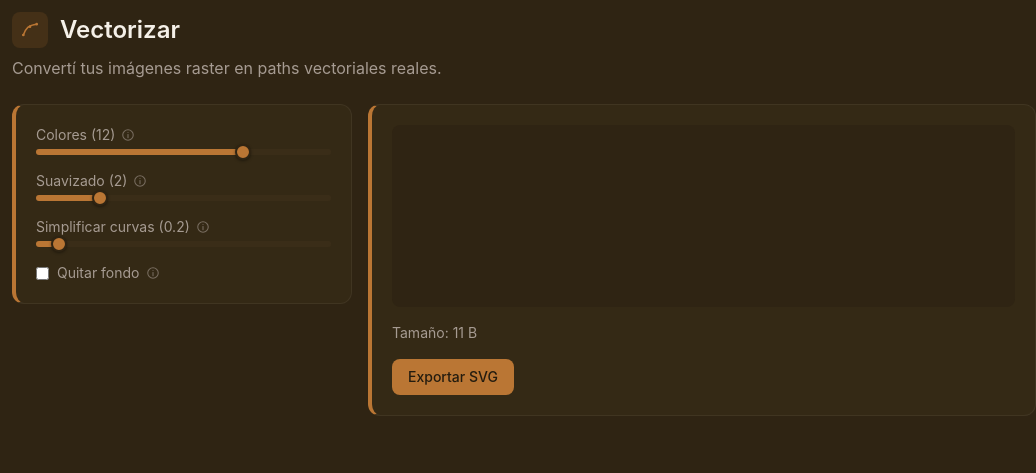
Test case: VectorizeScreen › exports the svg to the chosen path
What coordinates should you click on to do the following:
click the button "Exportar SVG"
I would click on:
 (453, 377)
Its box is [392, 359, 514, 395].
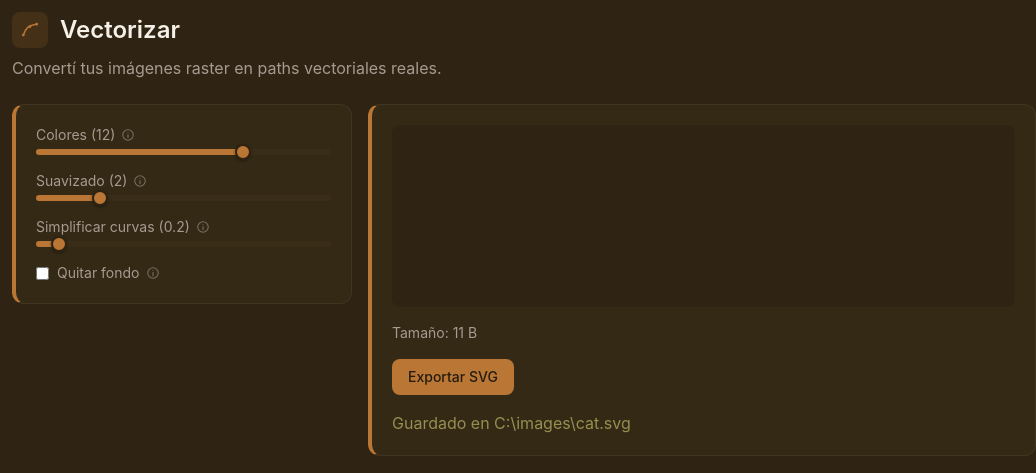
Expected: the text "Guardado en C:\\images\\cat.svg" is shown, [392, 413, 631, 433]
